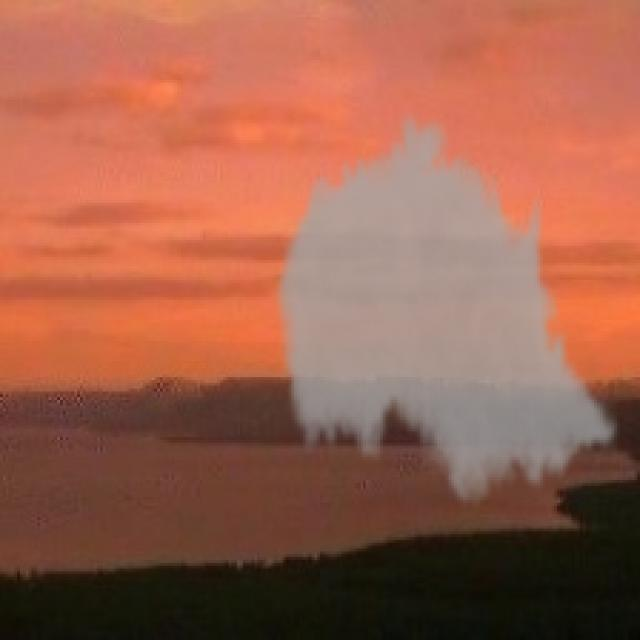smoke: (271, 106, 620, 517)
